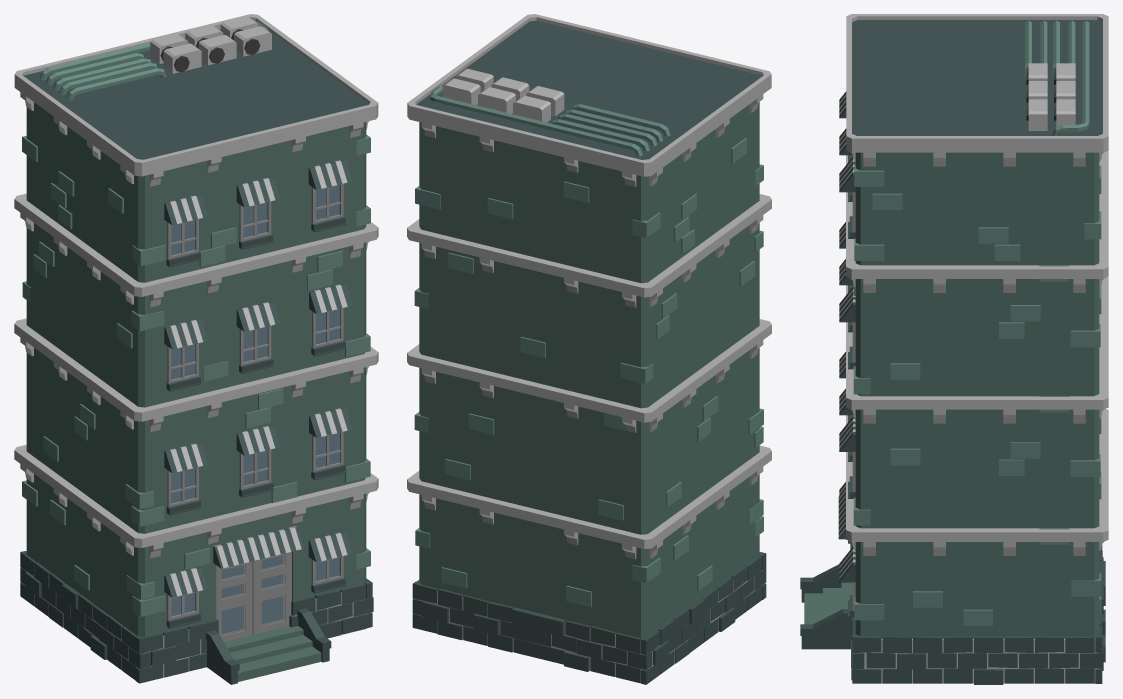
The model's file is quaternius-buildings-pack-3-4story-mat.glb.
The picture shows the model from 3 angles, left to right: view 1: azimuth 30°, elevation 25°; view 2: azimuth 150°, elevation 25°; view 3: azimuth 270°, elevation 25°; orthographic projection. The views are drawn at different scales.
Parts seen in each view (by area): view 1: 4Story_Mat; view 2: 4Story_Mat; view 3: 4Story_Mat.
Part boxes in pixels (x1=…): 4Story_Mat: x1=14, y1=14, x2=378, y2=684; 4Story_Mat: x1=407, y1=14, x2=771, y2=684; 4Story_Mat: x1=800, y1=14, x2=1108, y2=684.
Size of the model in its own units: 2.42 by 5.09 by 2.53.
